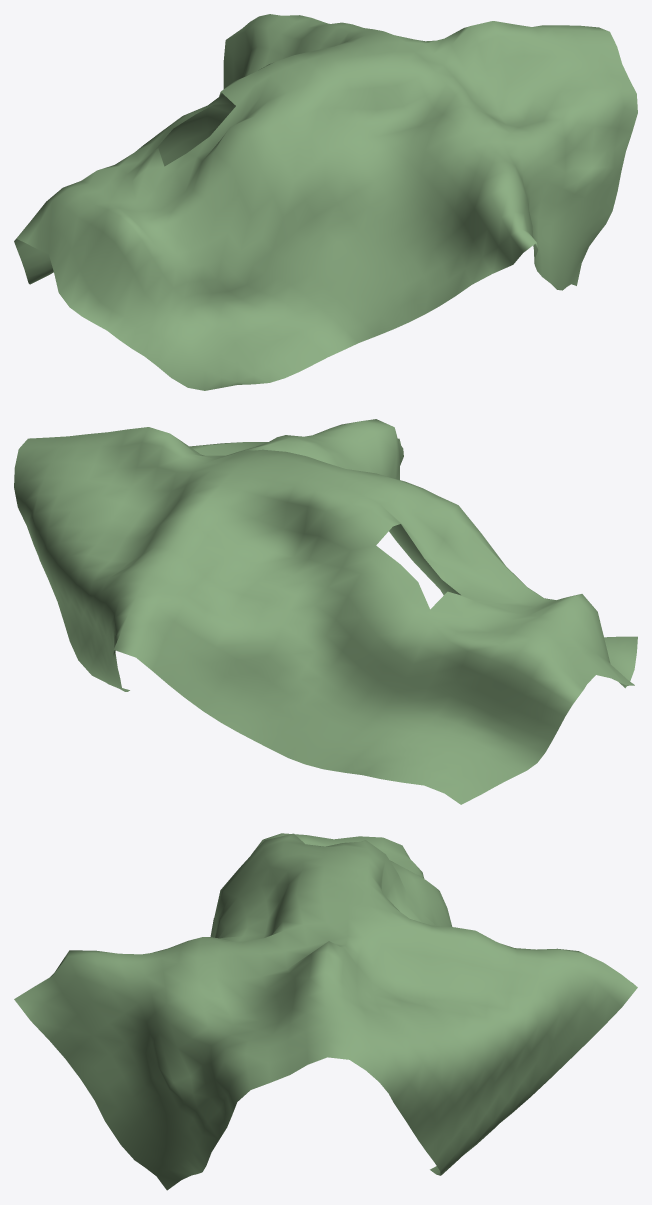
Rendered from Blanket.fbx.
3 views of the same model, one above another, from view 1: azimuth 30°, elevation 25°; view 2: azimuth 150°, elevation 25°; view 3: azimuth 270°, elevation 25° (orthographic). The views are drawn at different scales.
Parts seen in each view (by area): view 1: blanket1; view 2: blanket1; view 3: blanket1.
Part boxes in pixels (x1,y1,x2,y2): blanket1: [14, 14, 637, 390]; blanket1: [14, 419, 637, 804]; blanket1: [14, 833, 637, 1190].
Size of the model in its own units: 37.66 by 13.81 by 32.99.
